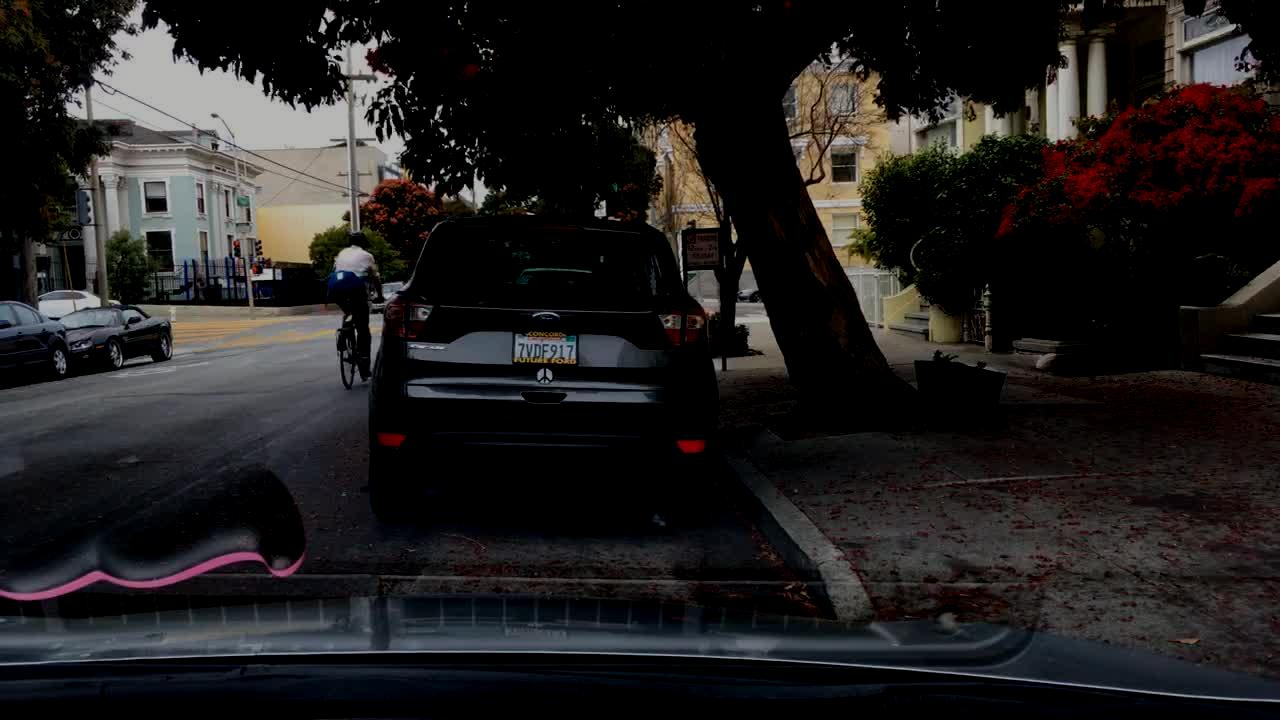ford: (527, 309, 562, 328)
